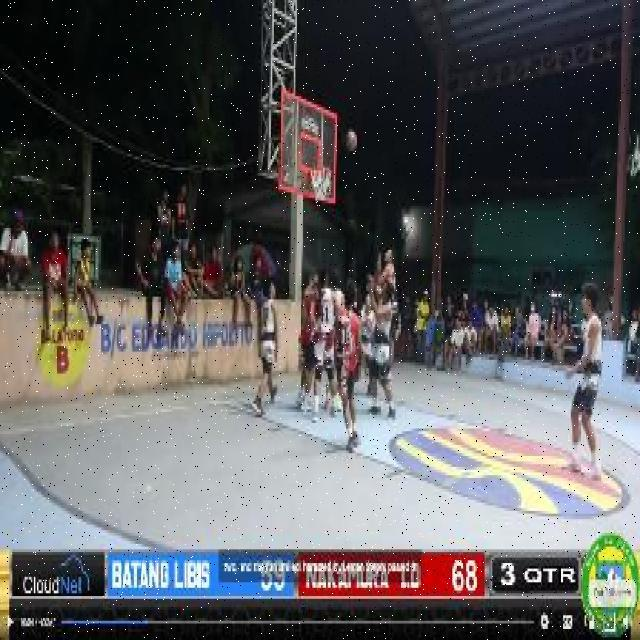ball: (344, 128, 358, 152)
hoop: (308, 165, 333, 177)
